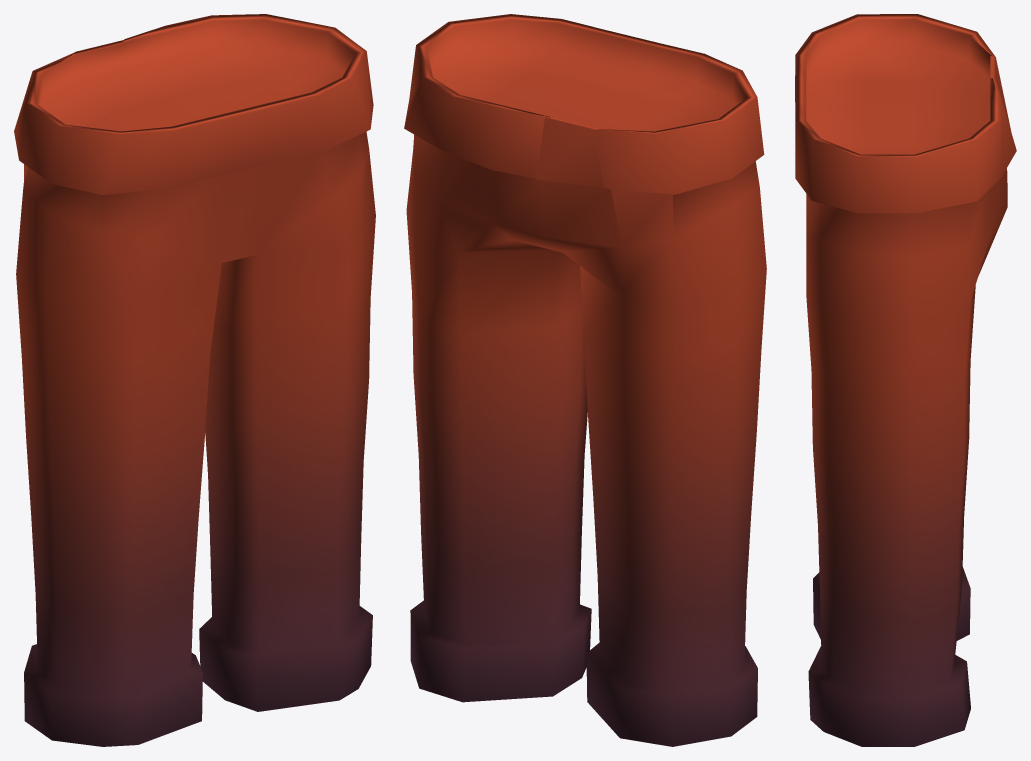
The model's file is Legs02.fbx.
The picture shows the model from 3 angles, left to right: view 1: azimuth 30°, elevation 25°; view 2: azimuth 150°, elevation 25°; view 3: azimuth 270°, elevation 25°; orthographic projection. The views are drawn at different scales.
Visible parts, largest first — view 1: Leg02; view 2: Leg02; view 3: Leg02.
Boxes of the visible parts, x1,y1,x2,y2 form: Leg02: (14,14,375,746); Leg02: (404,14,766,746); Leg02: (795,14,1016,746).
Size of the model in its own units: 54.77 by 97.83 by 33.47.
Materials: 1 (1 with a texture image).
